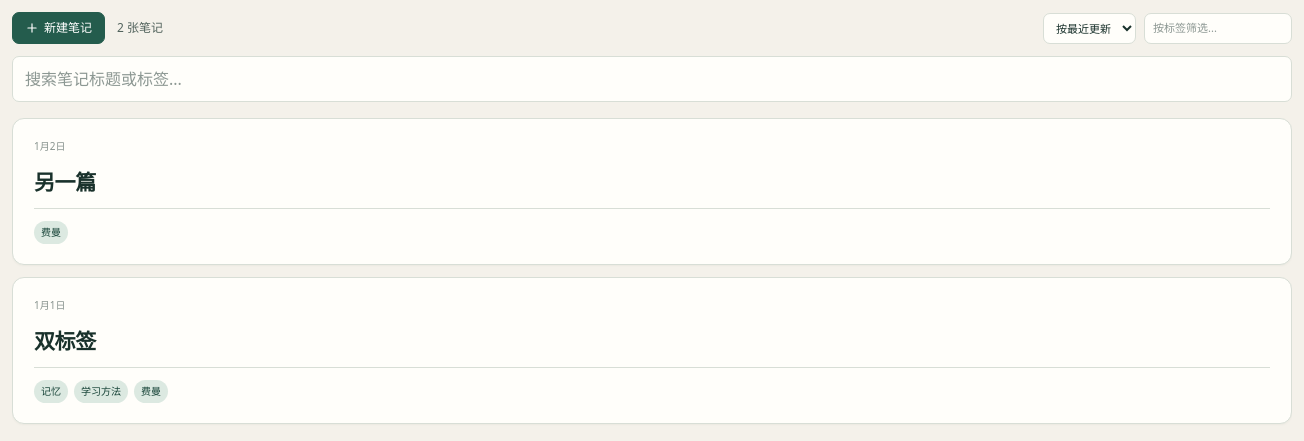
NoteList › 按标签筛选：多个标签需同时包含（AND），且忽略大小写
Type "记忆, 费曼" into the field with class "tag-filter-input" at [1218, 28], box [1144,12,1292,44]
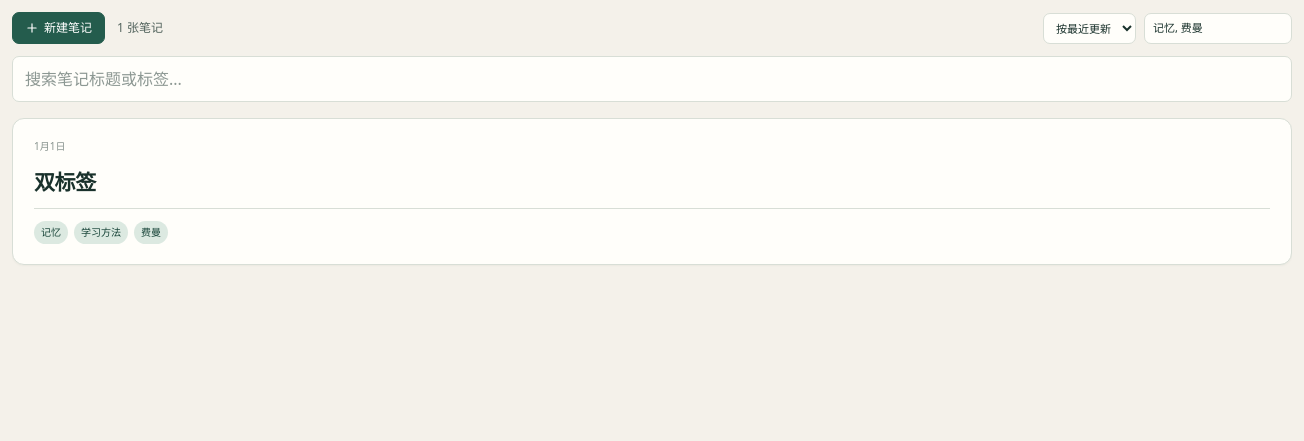
Expected: the element with class "note-card" shows "双标签", [34,171,96,195]
Expected: the number of elements with class "note-card" is 1, [12,118,1292,265]
